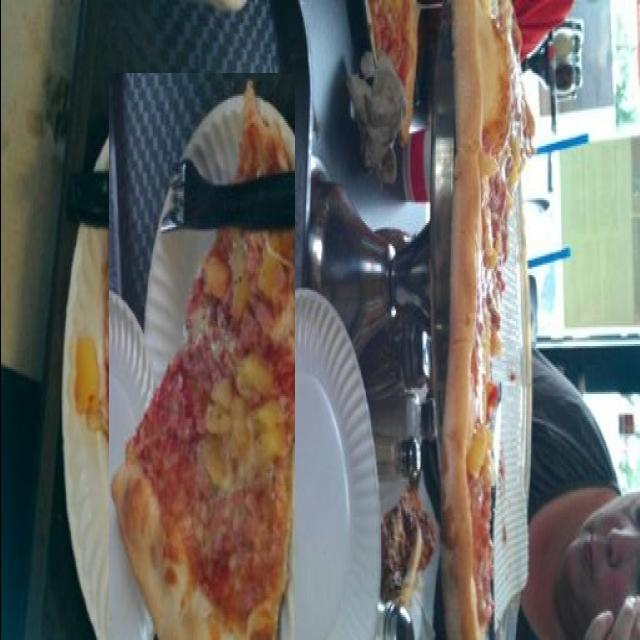pizza: (108, 73, 294, 640), (439, 4, 536, 640)
